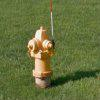Hydrant: (24, 19, 59, 96)
